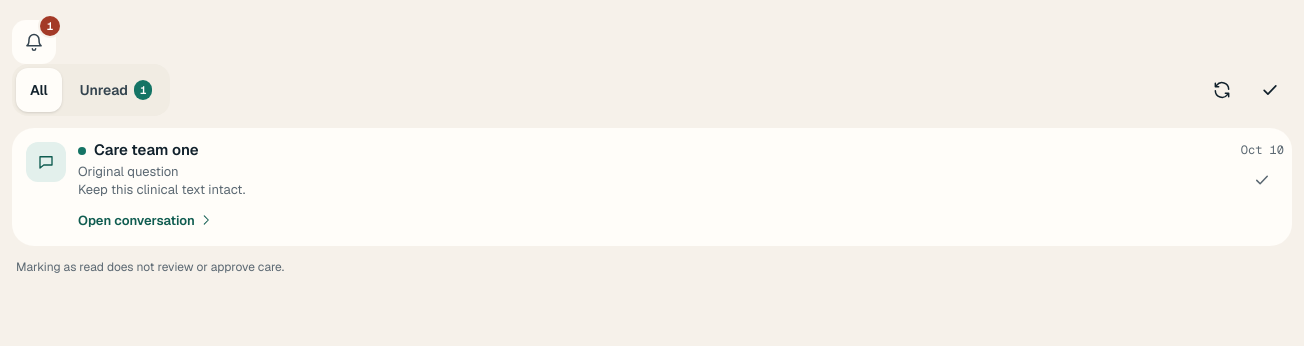
patient notification centre › keeps rows and the last count when a manual refresh fails, and says so
Expected: the heading "Care team one" is shown, left=94, top=140, right=199, bottom=159
Click the button named "Refresh" at (1222, 90), box left=1200, top=68, right=1244, bottom=112
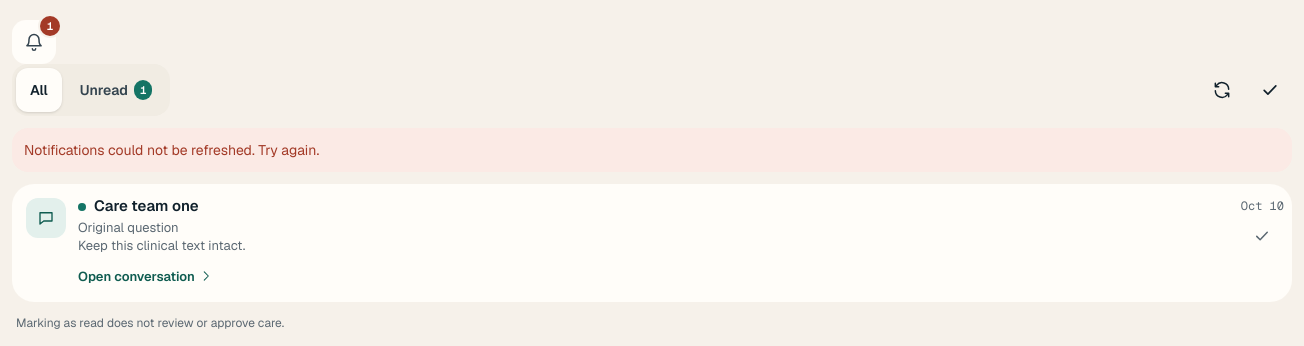
Expected: the heading "Care team one" is shown, left=94, top=196, right=199, bottom=215
Expected: the message "Notifications could not be refreshed. Try again." is shown, left=12, top=128, right=1292, bottom=172
